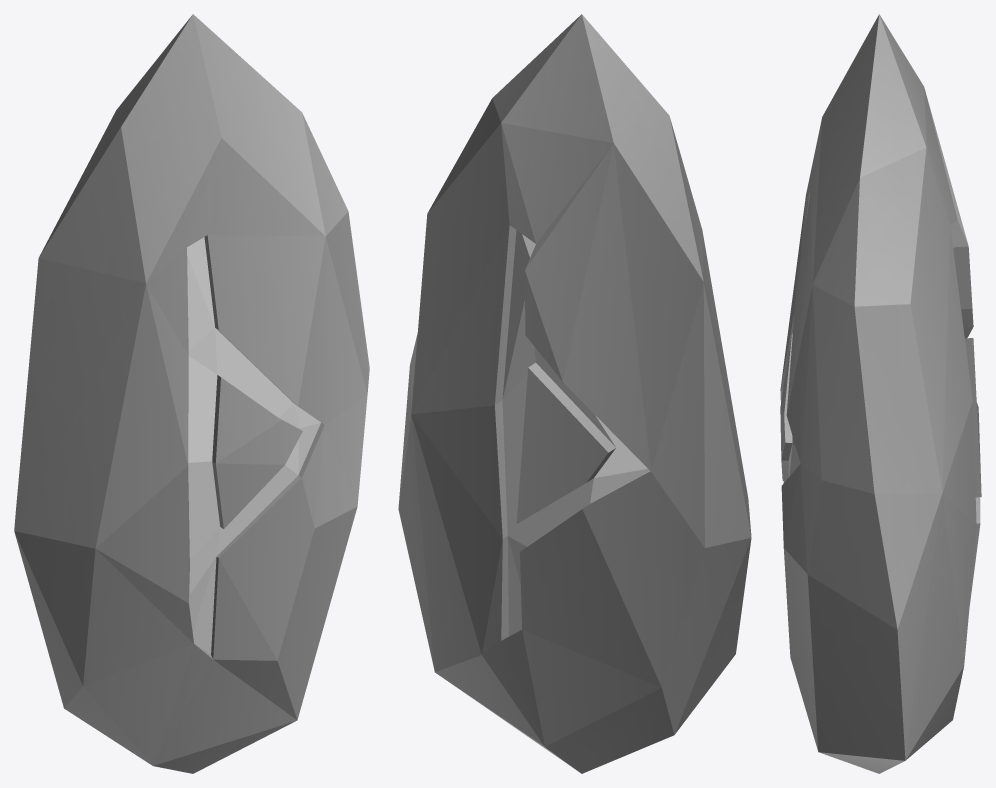
The model's file is runestone_floating.fbx.
The picture shows the model from 3 angles, left to right: view 1: azimuth 30°, elevation 25°; view 2: azimuth 150°, elevation 25°; view 3: azimuth 270°, elevation 25°; orthographic projection.
Visible parts, largest first — view 1: runestone_floating; view 2: runestone_floating; view 3: runestone_floating.
Part boxes in pixels (x1,y1,x2,y2): runestone_floating: (14,14,369,773); runestone_floating: (398,14,751,773); runestone_floating: (780,14,981,773).
Size of the model in its own units: 1.2 by 2.5 by 0.6.
Materials: 2 (1 with a texture image).
